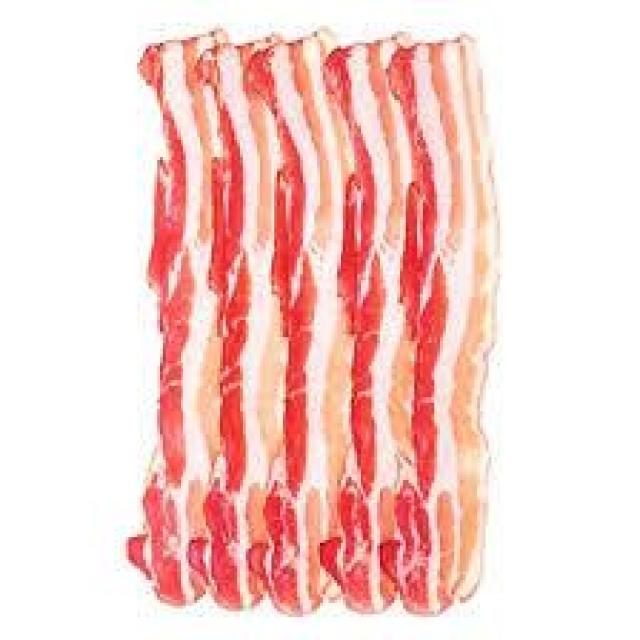organic: (120, 29, 503, 620)
